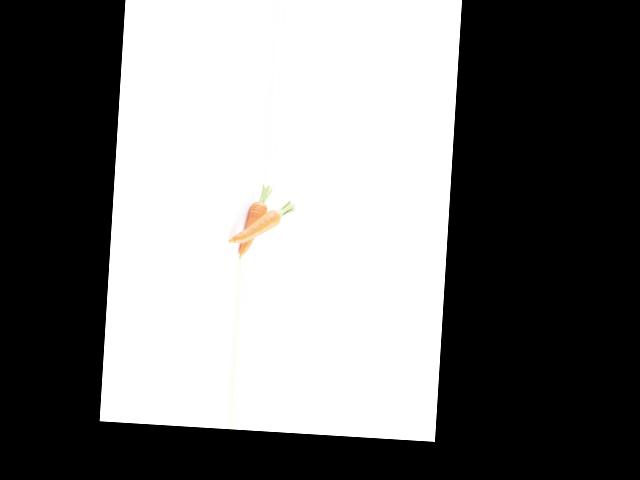carrot: (240, 191, 265, 259)
